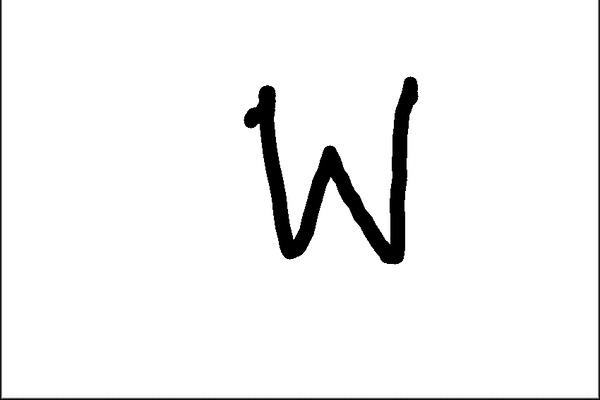w: (230, 67, 427, 275)
